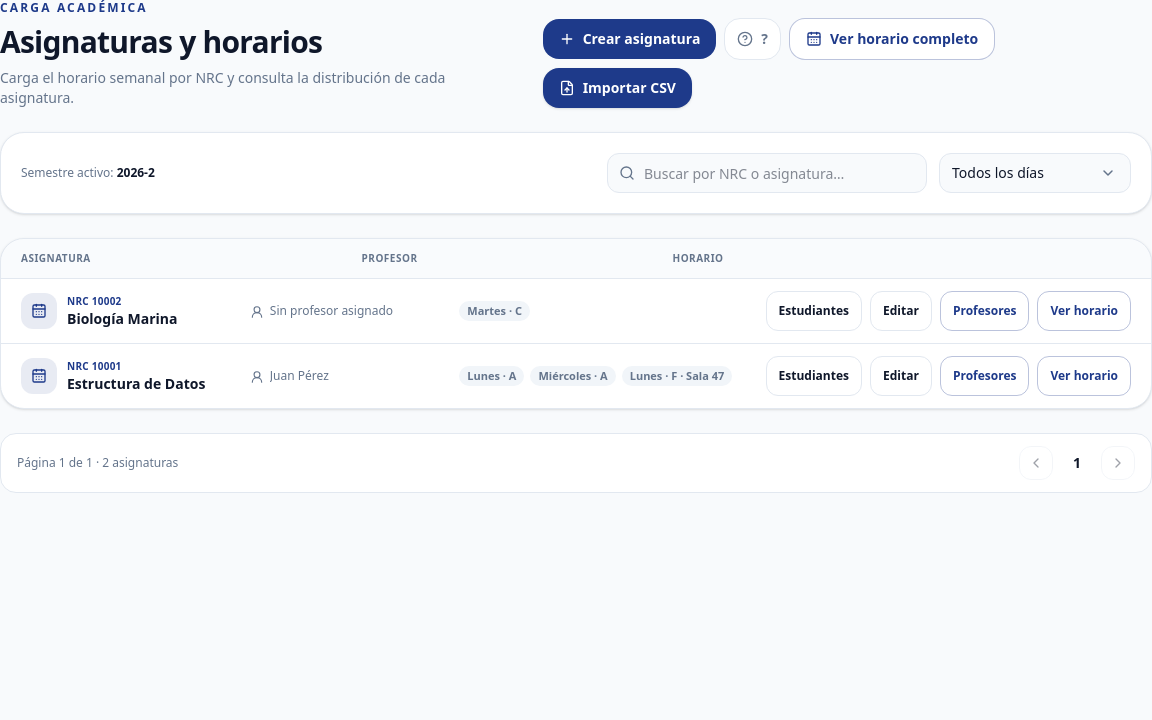
Test: SubjectsPage (asignaturas y horarios) › muestra la ayudantía compacta con A y ayudante, sin profesor, para SYSTEM_ADMIN
The width and height of the screenshot is (1152, 720).
Expected: the heading "Estructura de Datos" is shown, [67,374,205,394]
Click the button "Ver horario completo" at (892, 39), box [789,18,995,60]
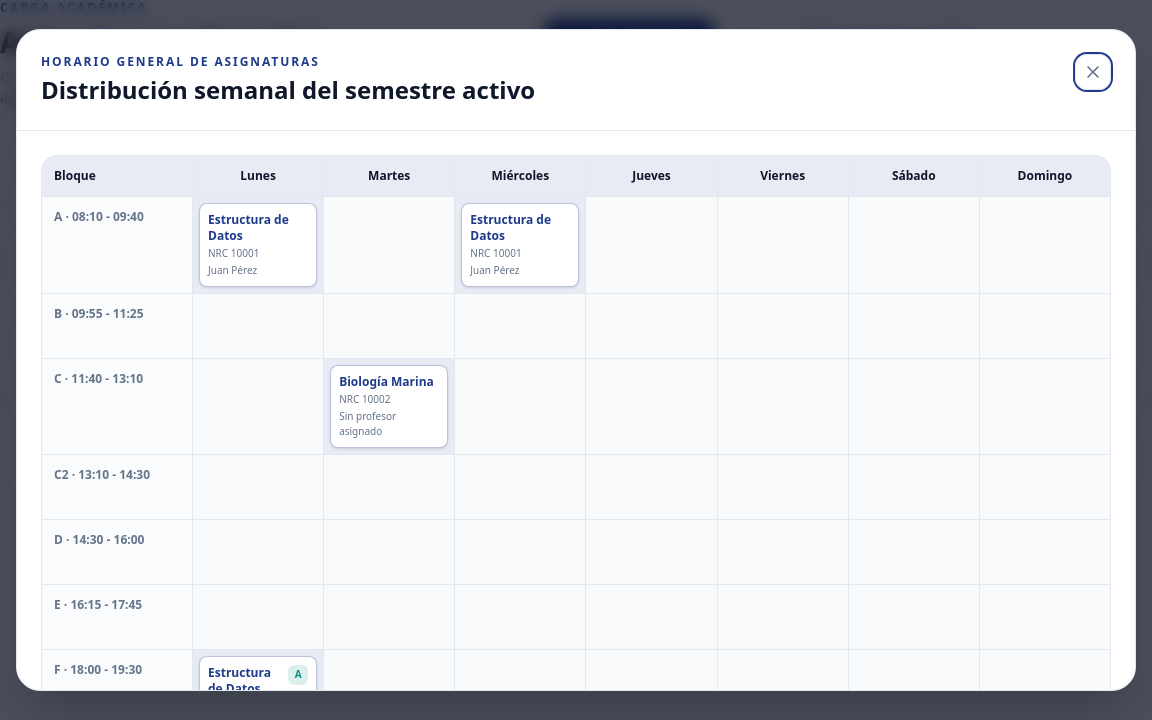
Expected: the text named "Ayudantía" reads "A", [295,667,302,681]
Expected: the 1st text "NRC 10001" is shown, [208,246,259,260]
